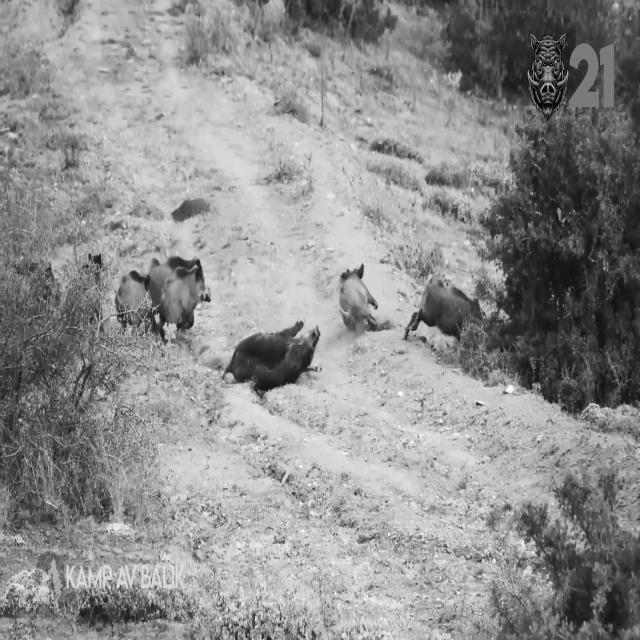boar: (115, 257, 210, 340), (115, 255, 210, 331), (222, 320, 319, 389), (223, 321, 319, 389), (404, 277, 481, 338), (340, 264, 392, 331)
